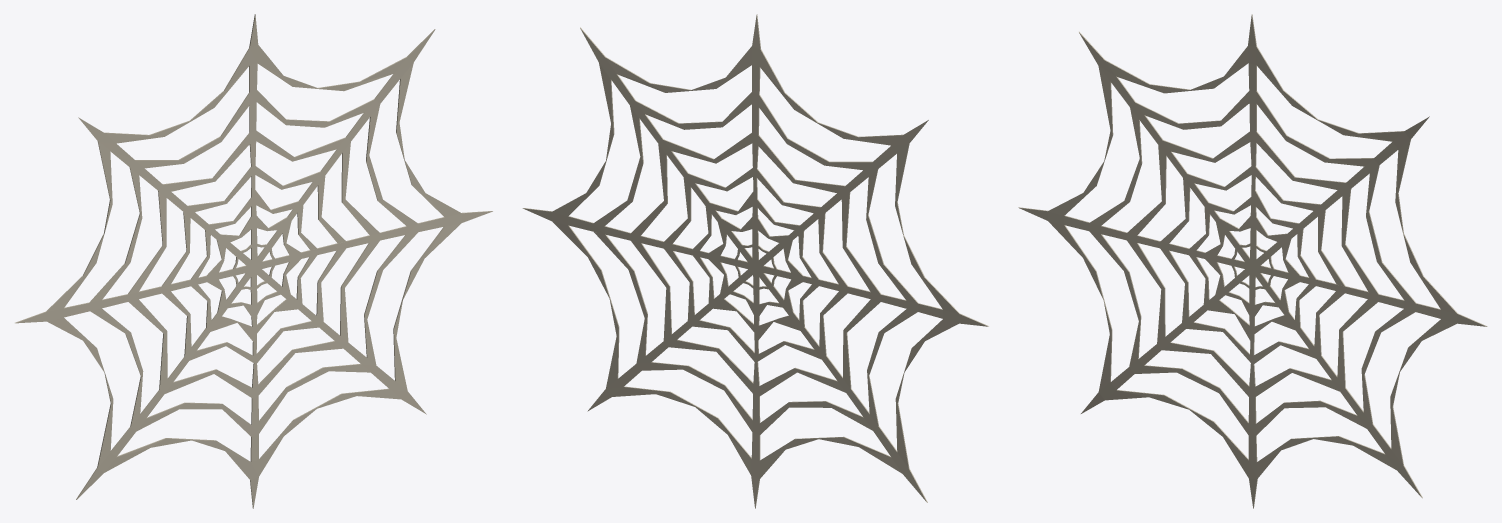
Rendered from Spider web.obj.
The picture shows the model from 3 angles, left to right: view 1: azimuth 30°, elevation 25°; view 2: azimuth 150°, elevation 25°; view 3: azimuth 330°, elevation 25°; orthographic projection.
Parts seen in each view (by area): view 1: Spider_web.Static; view 2: Spider_web.Static; view 3: Spider_web.Static.
Boxes of the visible parts, left/top/right/bottom form: Spider_web.Static: left=15, top=14, right=492, bottom=508; Spider_web.Static: left=522, top=14, right=988, bottom=508; Spider_web.Static: left=1018, top=14, right=1487, bottom=508.
Bounding box in the file's own units: 1 × 1 × 0.0209.
